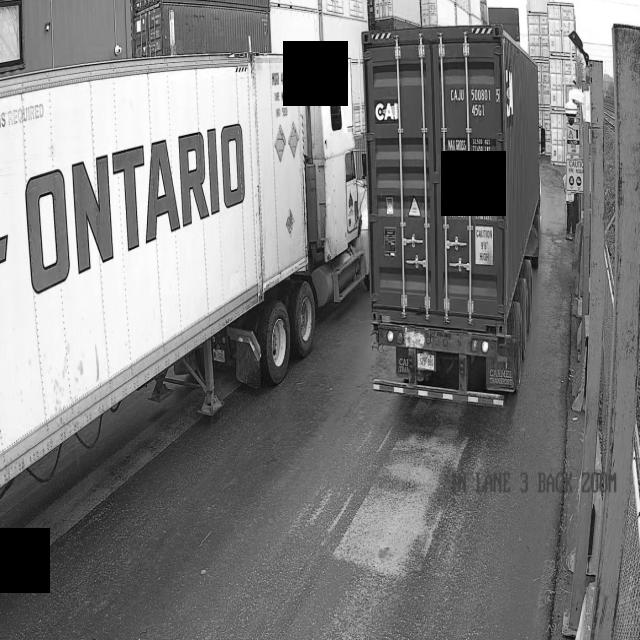container_company_logo: (370, 94, 403, 124)
container_number: (447, 81, 502, 130)
license_plate: (415, 349, 438, 369)
other_container_info: (441, 134, 505, 220)
truck_with_container: (0, 50, 365, 490), (364, 25, 541, 406)
